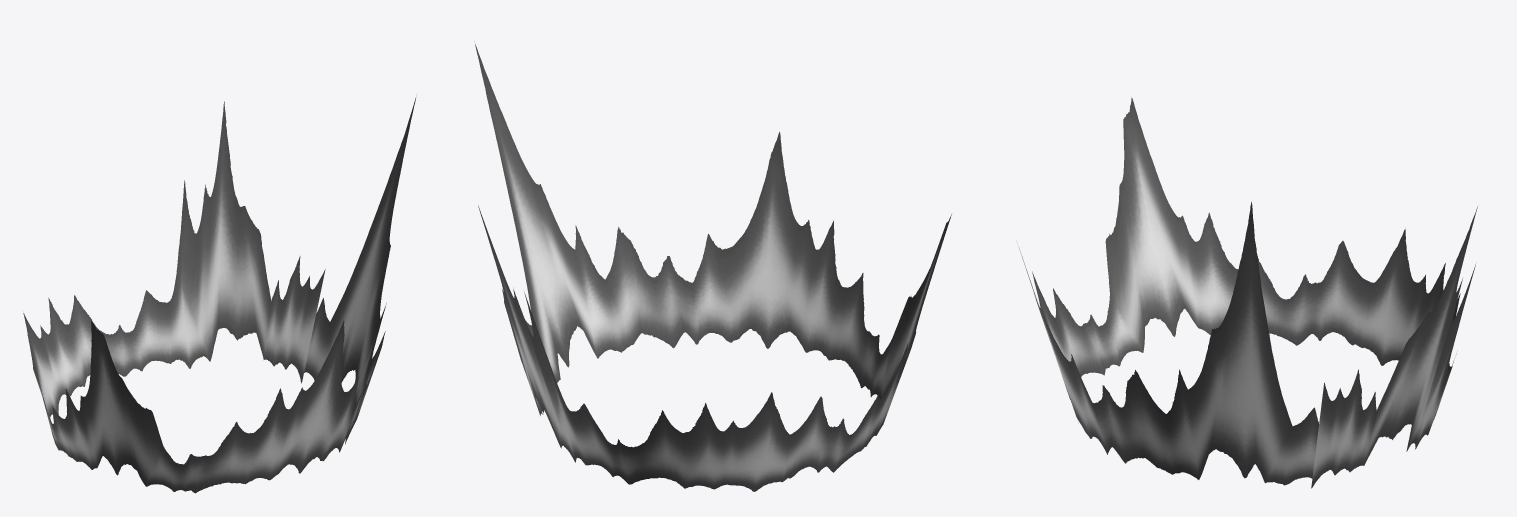
Rendered from m_impact_flipped_normals.fbx.
3 views of the same model, side by side, from view 1: azimuth 30°, elevation 25°; view 2: azimuth 150°, elevation 25°; view 3: azimuth 270°, elevation 25° (orthographic). The views are drawn at different scales.
Parts seen in each view (by area): view 1: m_impact; view 2: m_impact; view 3: m_impact.
Boxes of the visible parts, bbox=[...] form: m_impact: bbox=[23, 97, 416, 493]; m_impact: bbox=[475, 44, 951, 491]; m_impact: bbox=[1019, 98, 1477, 488].
Size of the model in its own units: 180 by 142 by 166.
Materials: 1 (1 with a texture image).
